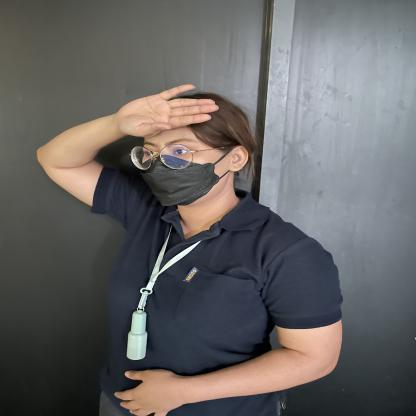Sick: (28, 67, 223, 139)
